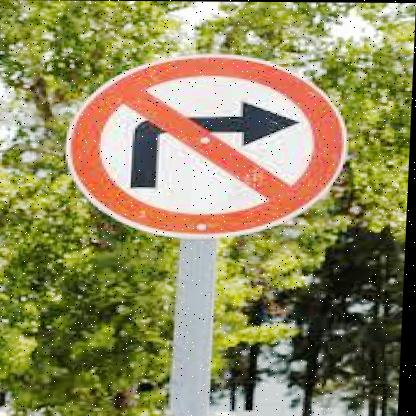No right turn: (68, 49, 350, 244)
